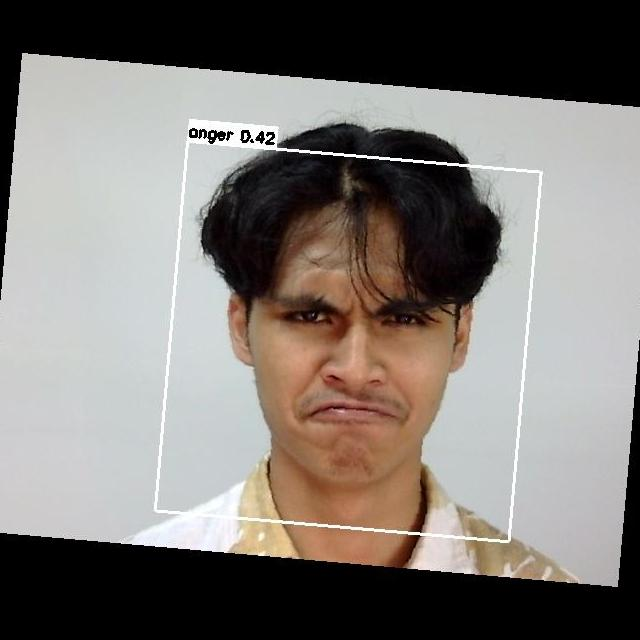Sad: (237, 250, 483, 470)
